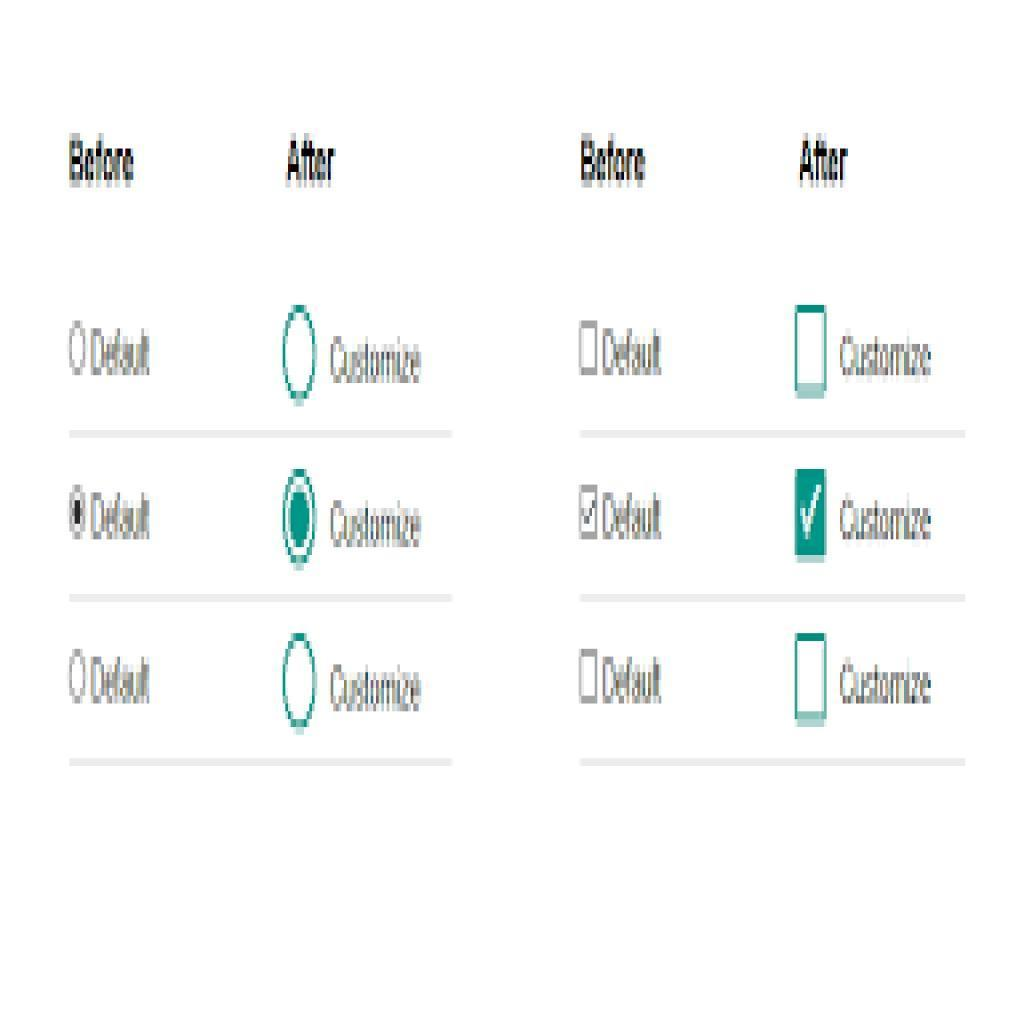checkbox: (790, 637, 835, 728), (788, 471, 832, 561), (793, 307, 832, 402), (574, 319, 605, 378), (575, 646, 601, 707), (579, 488, 601, 543)
radio: (276, 462, 323, 569), (276, 296, 318, 409), (279, 630, 325, 732), (63, 638, 95, 712), (66, 313, 90, 383), (67, 474, 90, 543)
